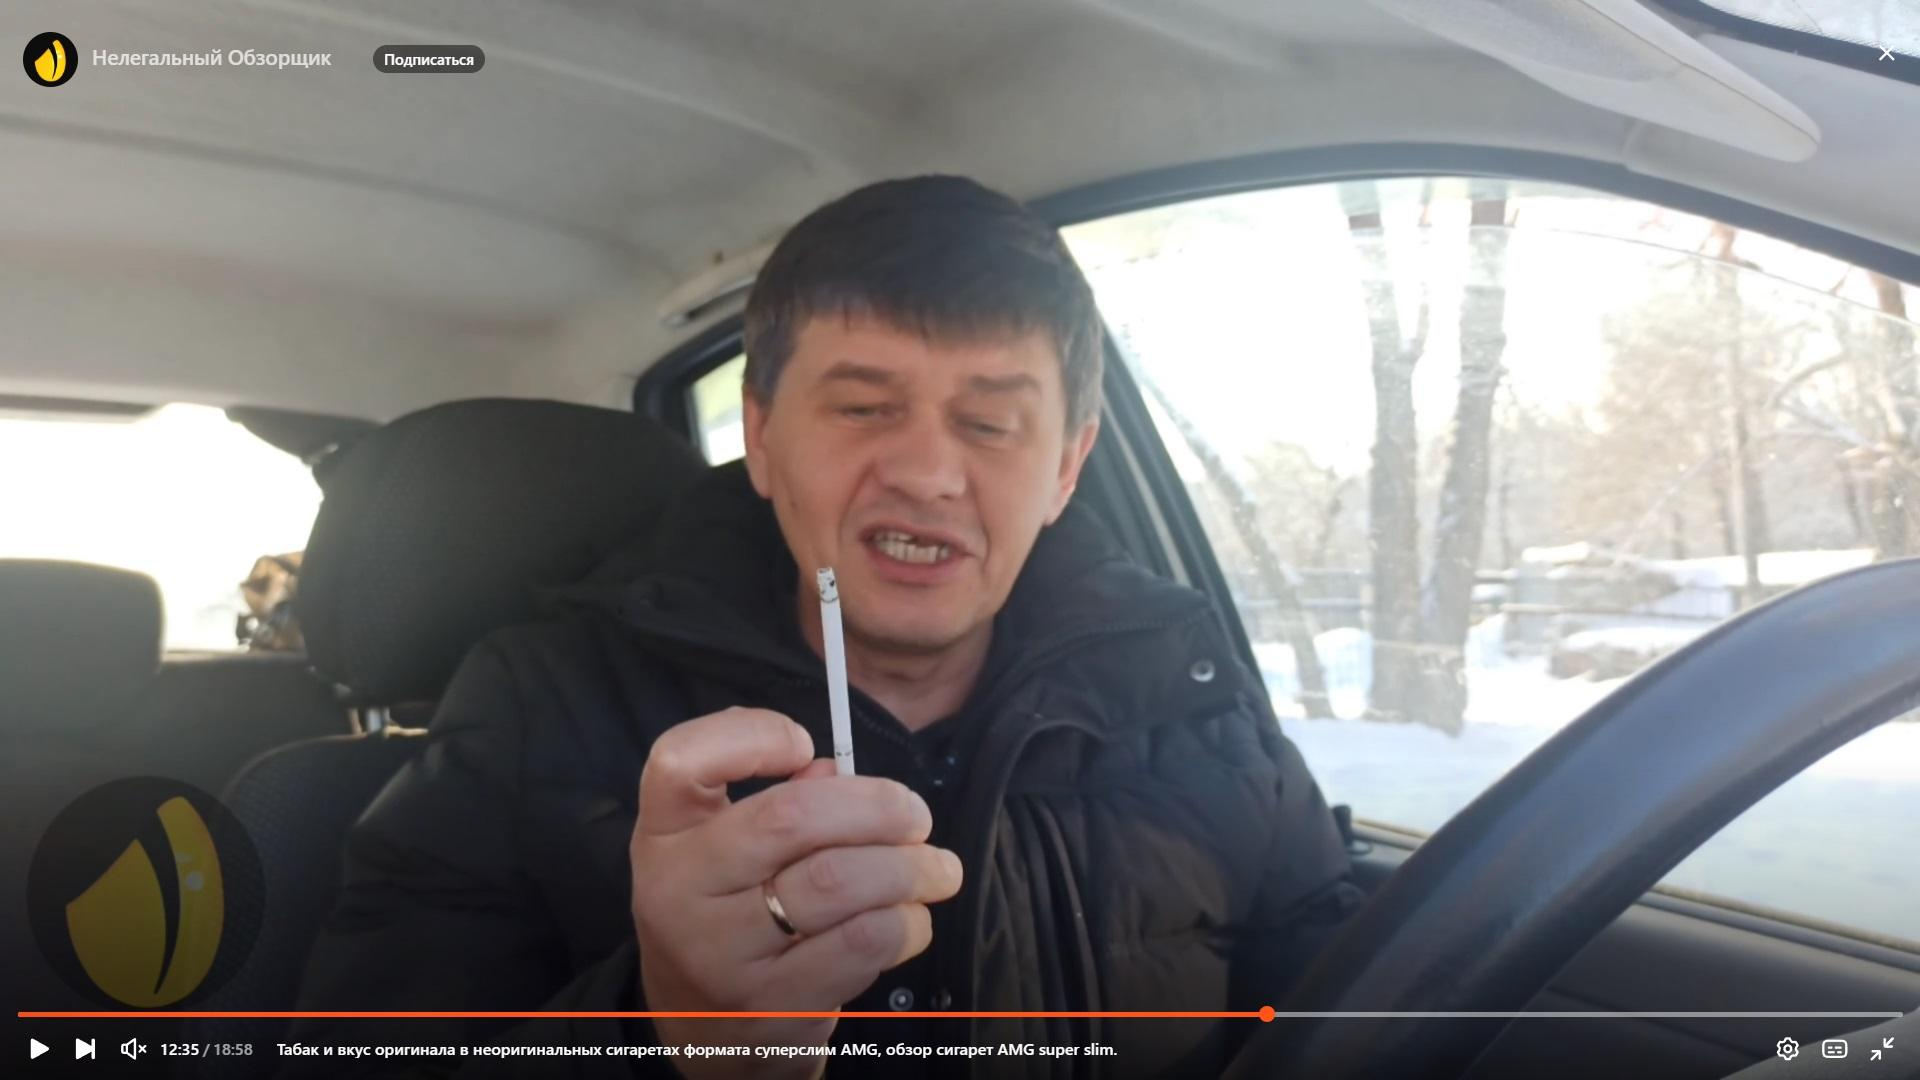cigarette: (816, 567, 855, 777)
